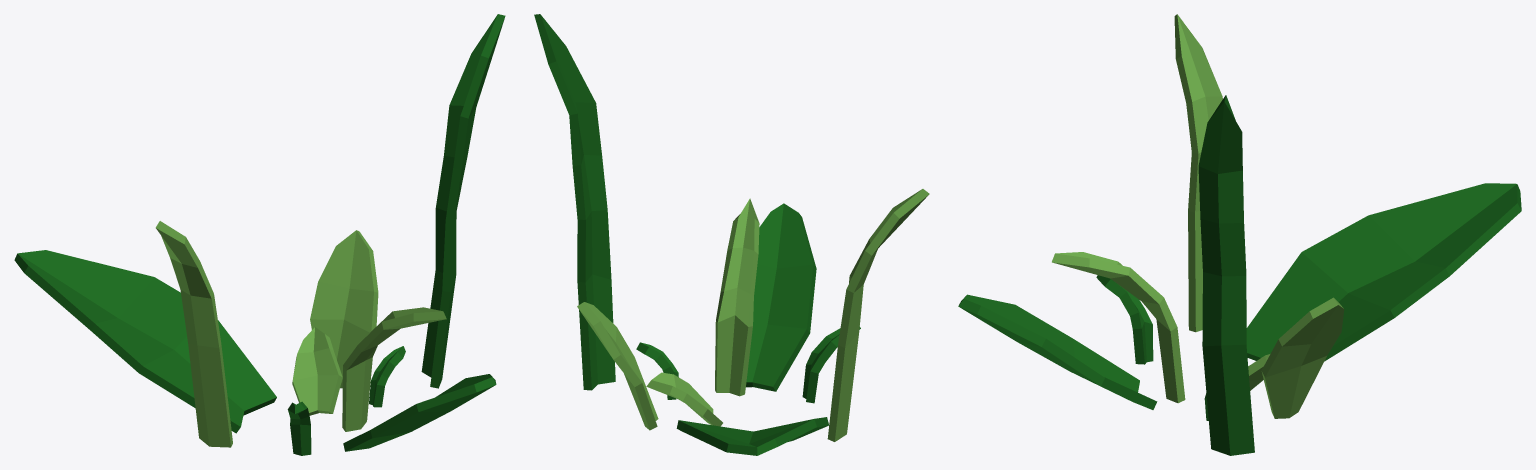
File: Stage3.fbx
3 renders of one model, left to right at view 1: azimuth 30°, elevation 25°; view 2: azimuth 150°, elevation 25°; view 3: azimuth 270°, elevation 25°, orthographic. The views are drawn at different scales.
Parts seen in each view (by area): view 1: Grass2.3; view 2: Grass2.3; view 3: Grass2.3.
Part boxes in pixels (box(x1,y1,x2,y2)): Grass2.3: box(14, 14, 505, 455); Grass2.3: box(534, 14, 929, 455); Grass2.3: box(958, 14, 1521, 455).
Bounding box in the file's own units: 12.13 × 11.32 × 14.39.
